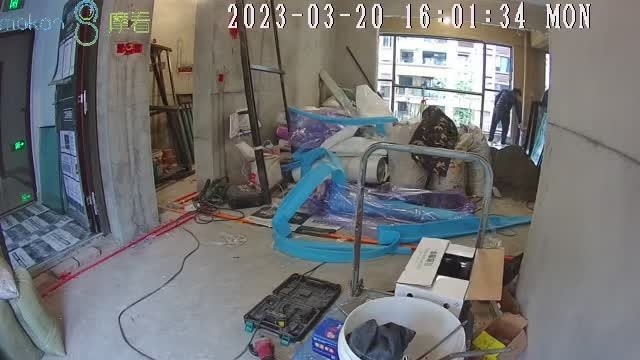people: (487, 87, 523, 149)
window: (379, 35, 515, 133)
